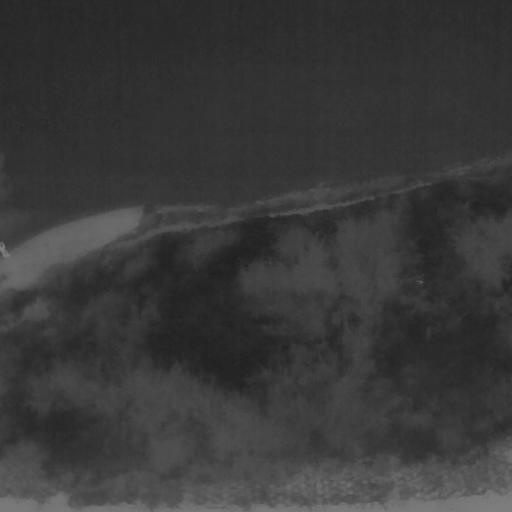uav: (417, 279, 425, 289)
